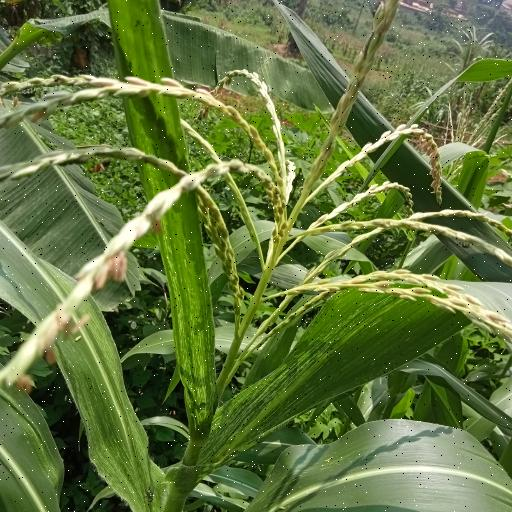Corn_Streak: (174, 272, 438, 512)
